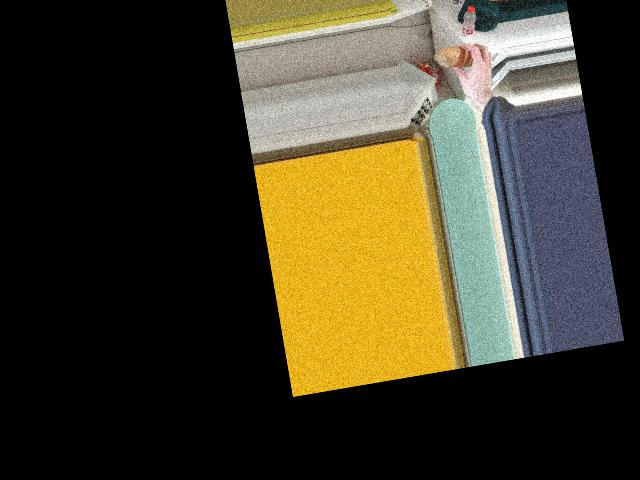sweet_potato: (444, 45, 484, 80)
